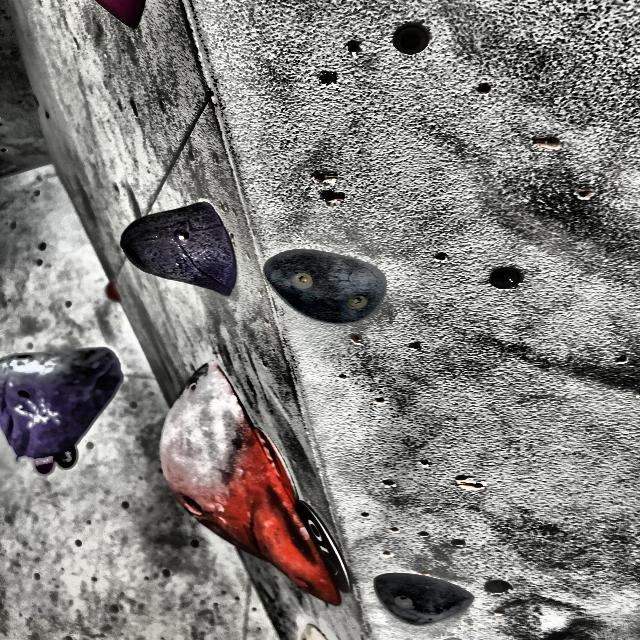hold: (150, 360, 360, 608), (0, 340, 129, 467), (118, 195, 250, 298), (256, 241, 388, 332), (370, 564, 478, 628)
